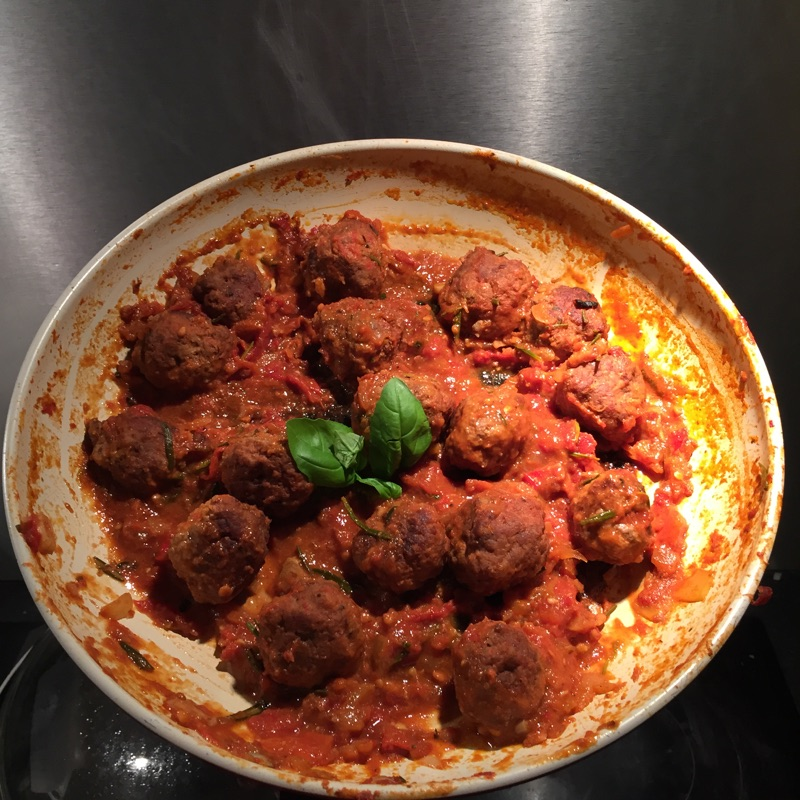meatballs: (182, 306, 600, 668)
